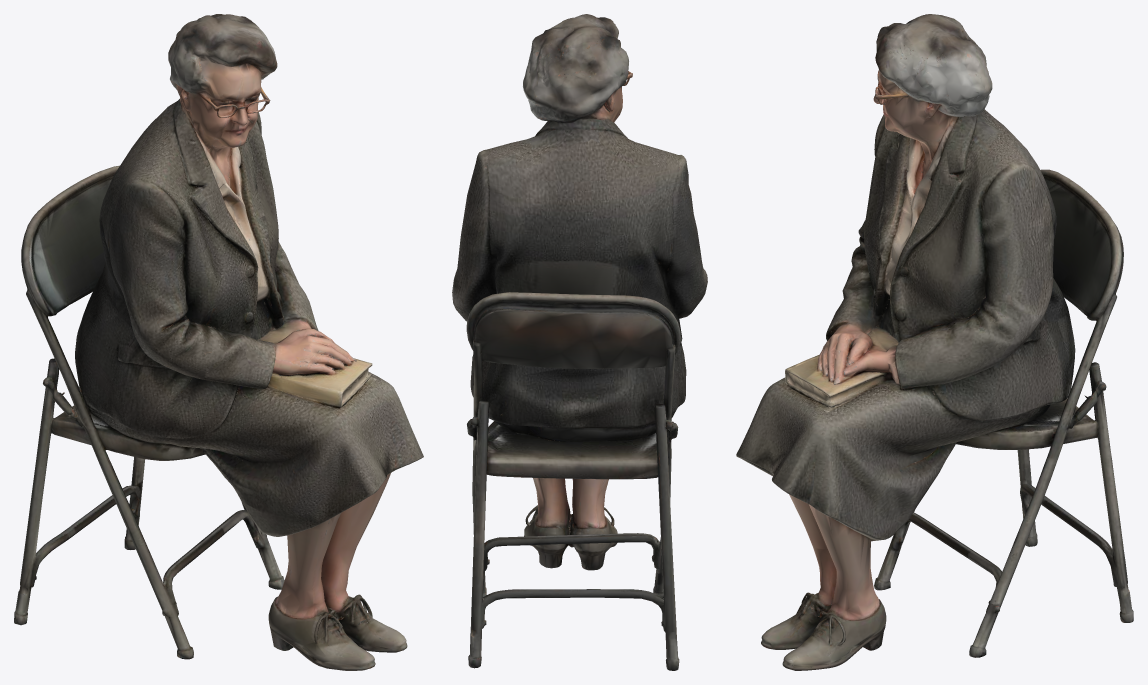
File: eleanor_roosevelt_metal_foldout_chair.glb
3 renders of one model, left to right at view 1: azimuth 30°, elevation 25°; view 2: azimuth 150°, elevation 25°; view 3: azimuth 270°, elevation 25°, orthographic. The views are drawn at different scales.
Size of the model in its own units: 0.9931 by 2 by 1.21.
1 material, 1 textured.
